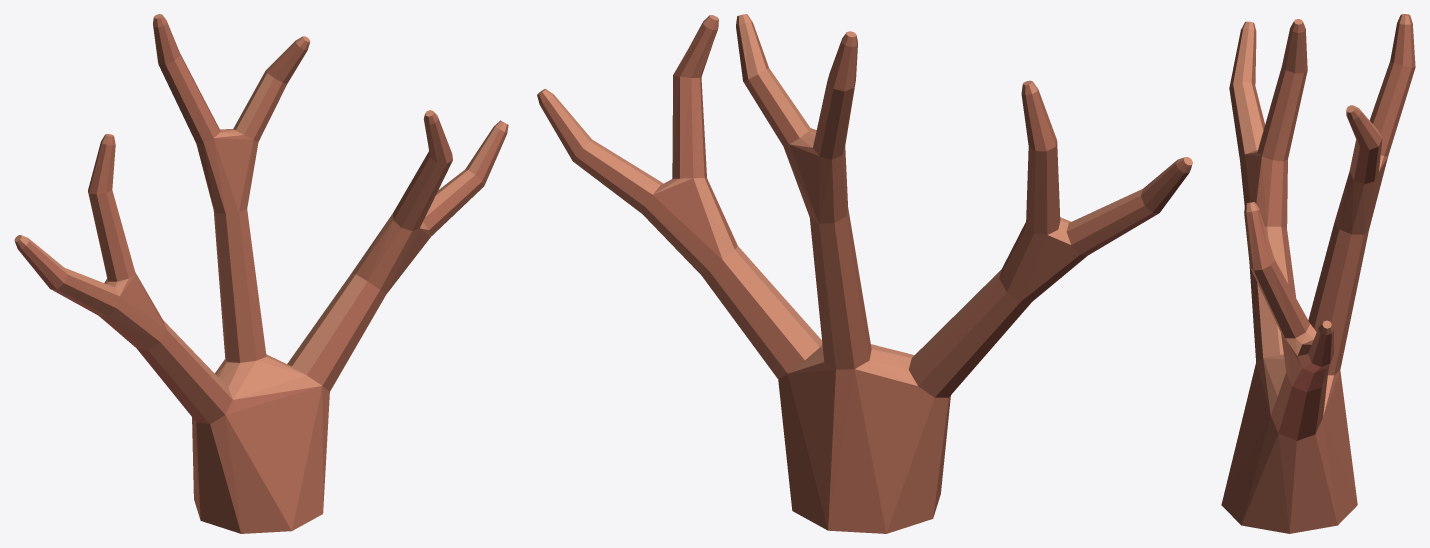
3 views of the same model, side by side, from view 1: azimuth 30°, elevation 25°; view 2: azimuth 150°, elevation 25°; view 3: azimuth 270°, elevation 25° (orthographic). The views are drawn at different scales.
Visible parts, largest first — view 1: ContinuousBranchingCoral; view 2: ContinuousBranchingCoral; view 3: ContinuousBranchingCoral.
Part boxes in pixels (bbox=[...]): ContinuousBranchingCoral: bbox=[14, 14, 508, 533]; ContinuousBranchingCoral: bbox=[537, 14, 1192, 533]; ContinuousBranchingCoral: bbox=[1221, 14, 1415, 533].
Bounding box in the file's own units: 0.5959 × 0.4938 × 0.1851.
